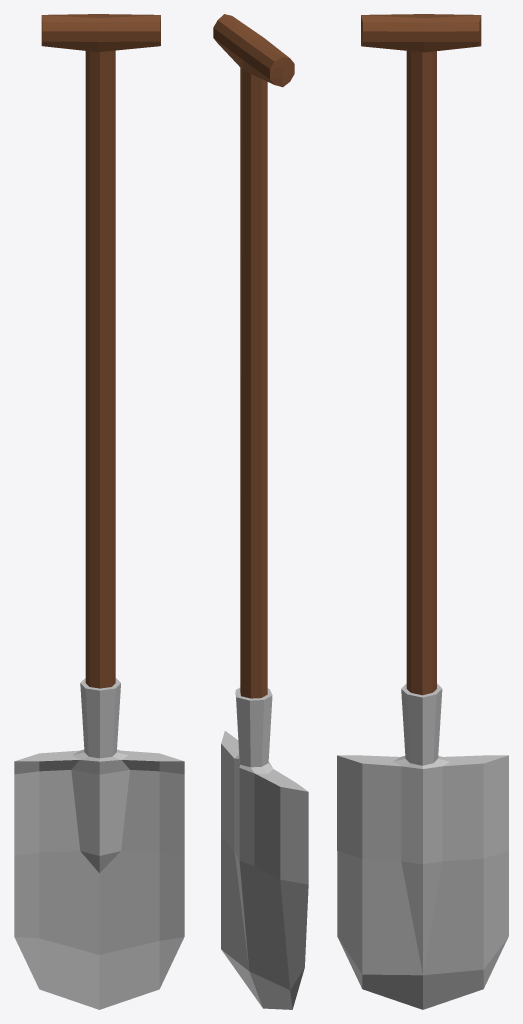
The model's file is shovel01.obj.
3 views of the same model, side by side, from view 1: azimuth 90°, elevation 25°; view 2: azimuth 210°, elevation 25°; view 3: azimuth 270°, elevation 25° (orthographic). The views are drawn at different scales.
Parts seen in each view (by area): view 1: Cylinder.001_Cylinder.002; view 2: Cylinder.001_Cylinder.002; view 3: Cylinder.001_Cylinder.002.
Part boxes in pixels (bbox=[...]): Cylinder.001_Cylinder.002: bbox=[14, 14, 184, 1009]; Cylinder.001_Cylinder.002: bbox=[213, 14, 308, 1009]; Cylinder.001_Cylinder.002: bbox=[337, 14, 508, 1009].
Size of the model in its own units: 0.0498 by 1.39 by 0.2161.
1 material, 1 textured.
